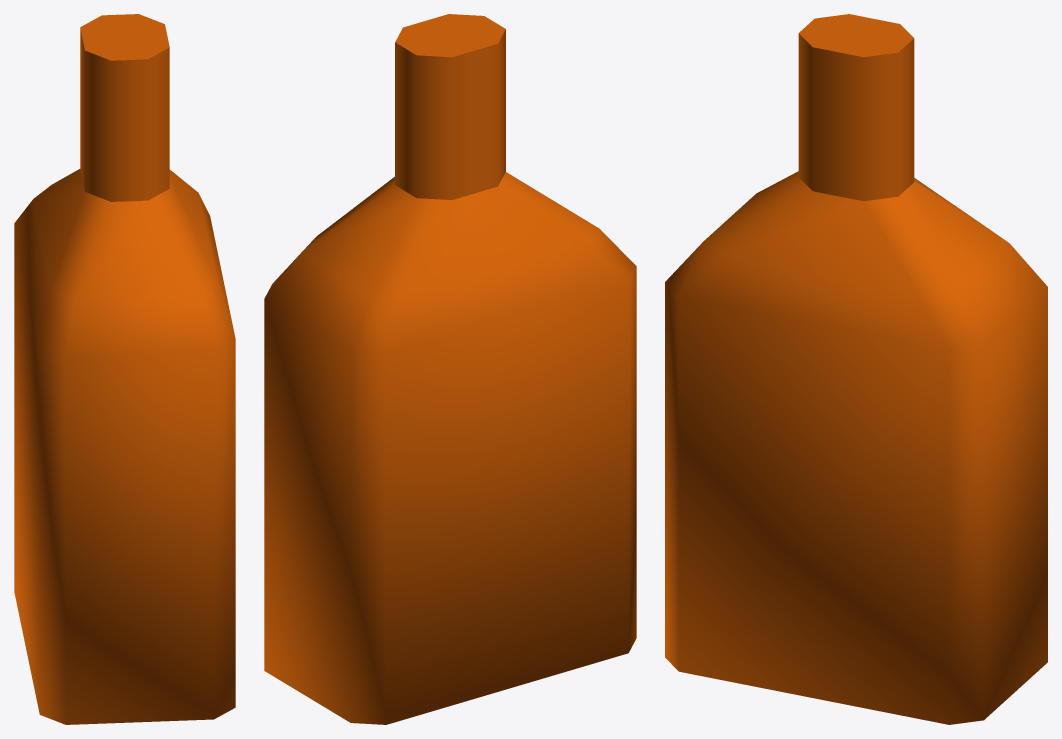
File: whiskey.FBX
3 renders of one model, left to right at view 1: azimuth 30°, elevation 25°; view 2: azimuth 150°, elevation 25°; view 3: azimuth 270°, elevation 25°, orthographic.
Visible parts, largest first — view 1: whiskey; view 2: whiskey; view 3: whiskey.
Boxes of the visible parts, left/top/right/bottom form: whiskey: left=14, top=14, right=235, bottom=724; whiskey: left=264, top=14, right=636, bottom=724; whiskey: left=665, top=14, right=1047, bottom=724.
Bounding box in the file's own units: 2.8 × 6.27 × 3.49.
